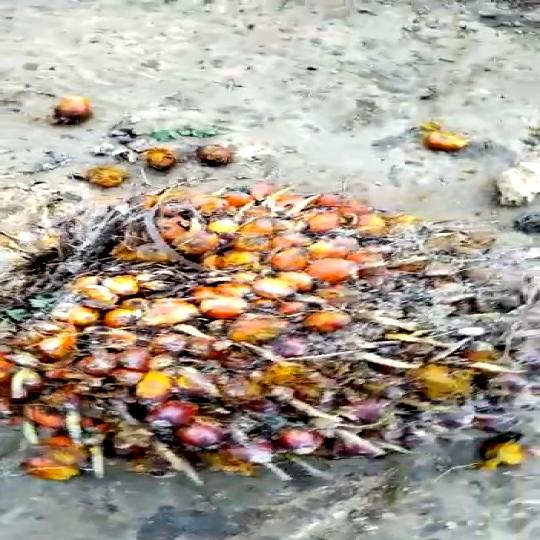masak: (0, 178, 540, 512)
